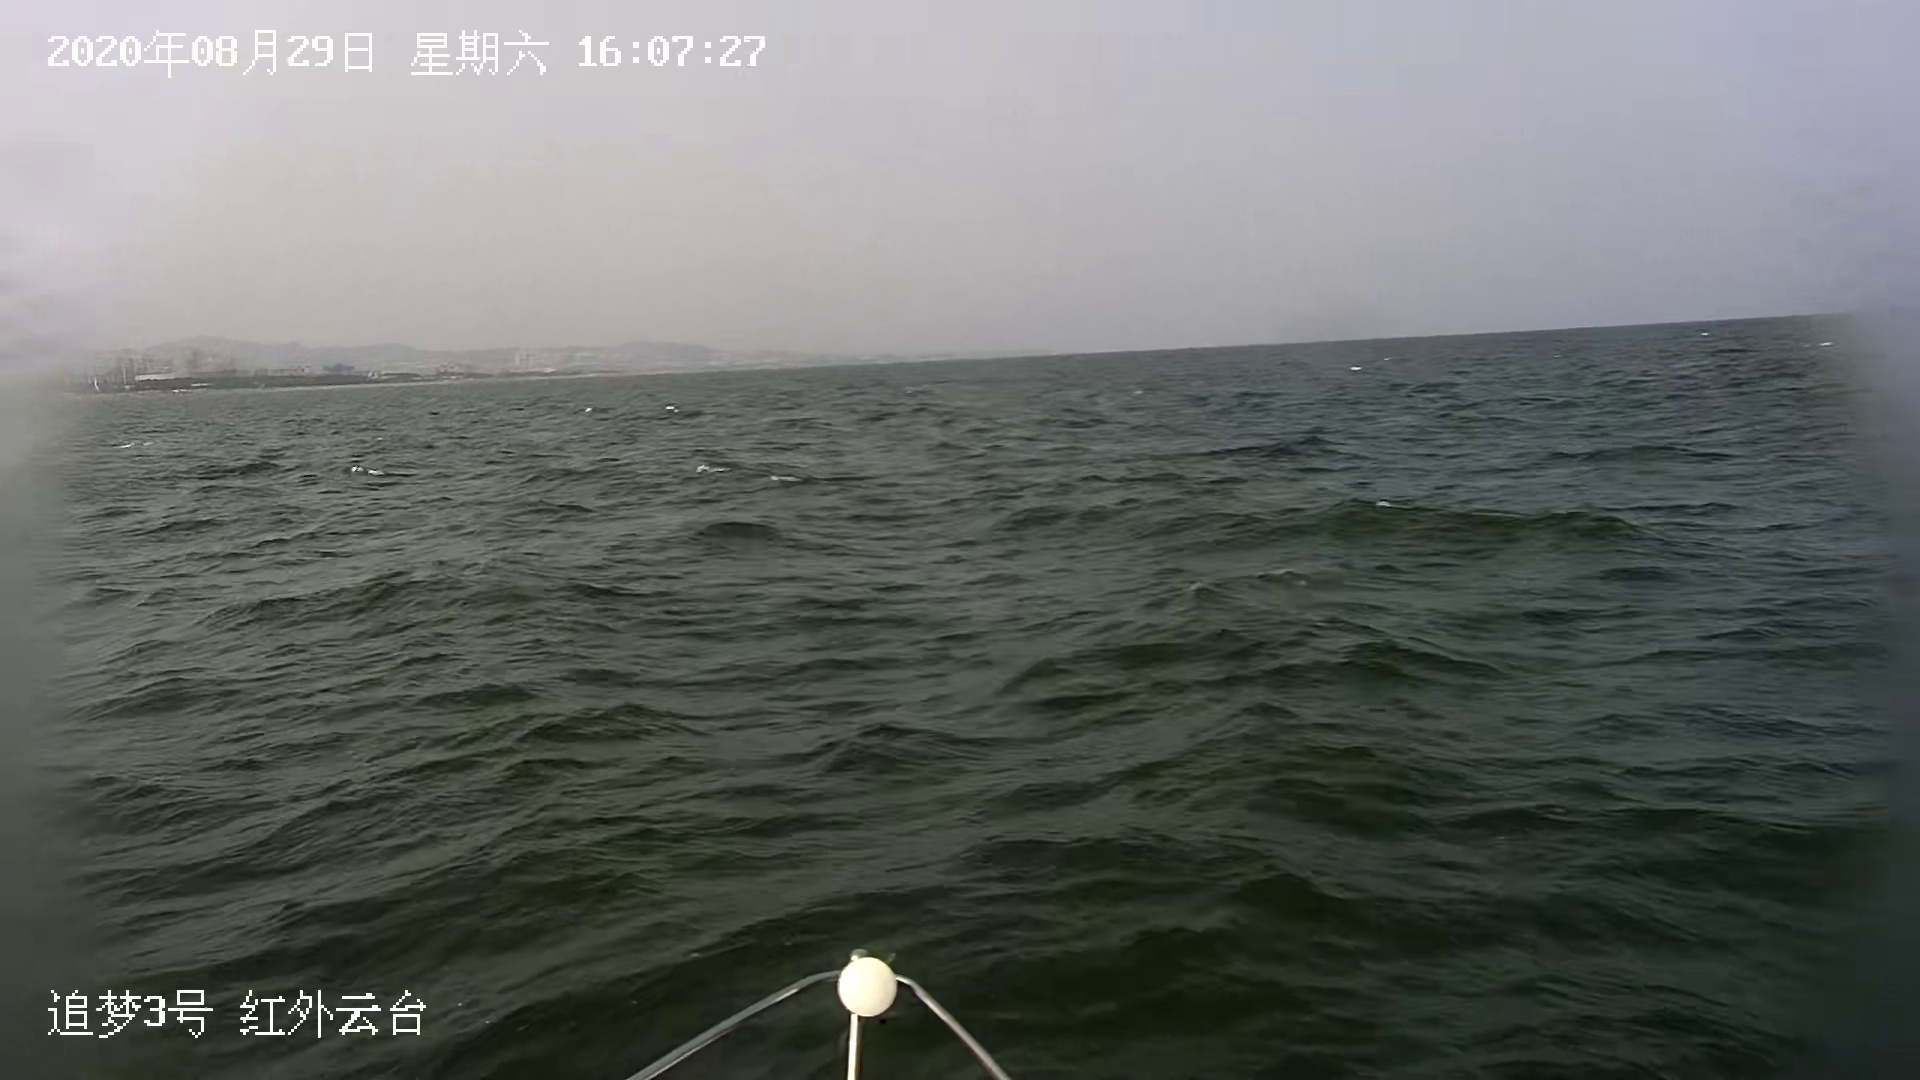coast: (41, 328, 1011, 400)
